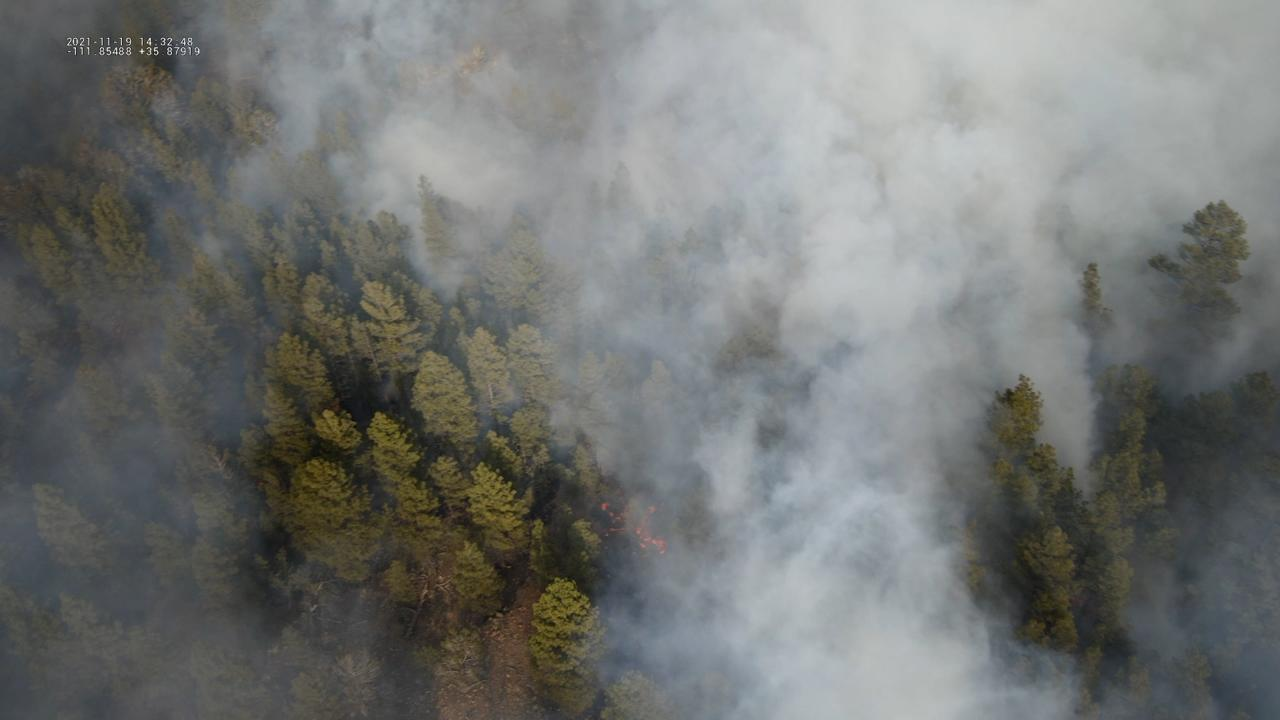fire: (598, 500, 669, 558)
smoke: (0, 0, 1280, 720)
